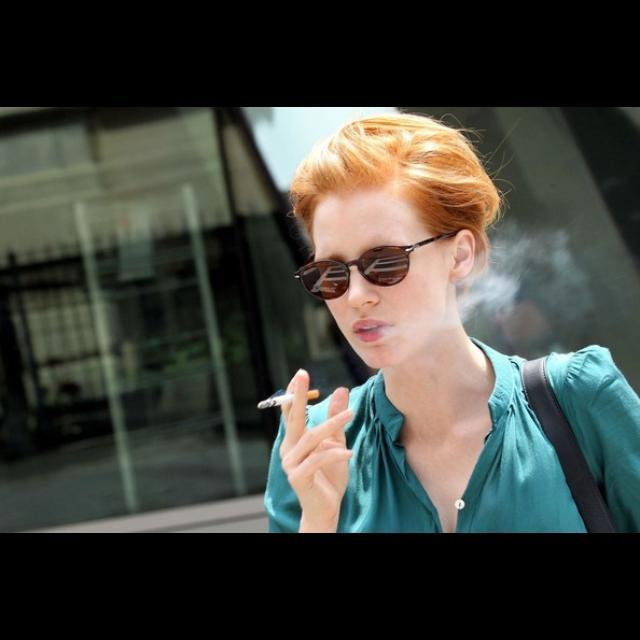rokok: (252, 383, 316, 415)
